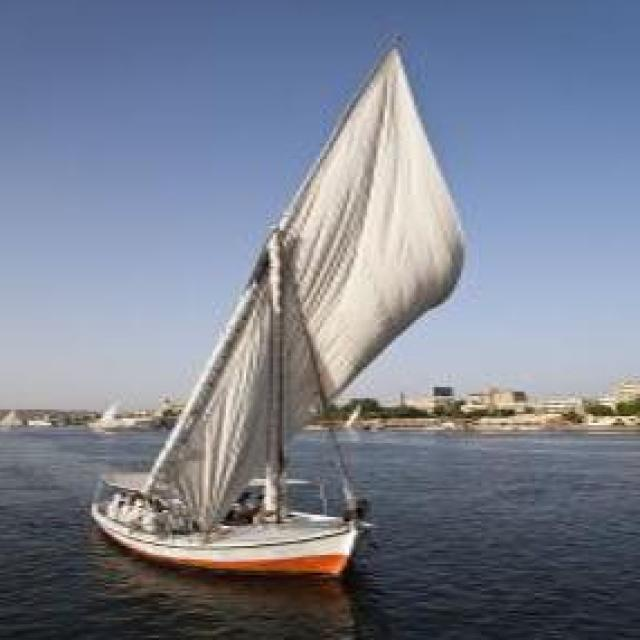sailboat: (77, 33, 461, 580)
